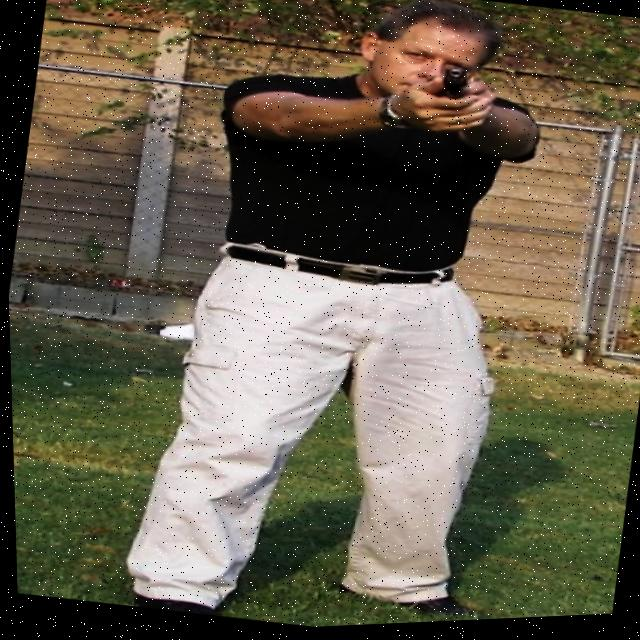pistol: (435, 67, 471, 107)
